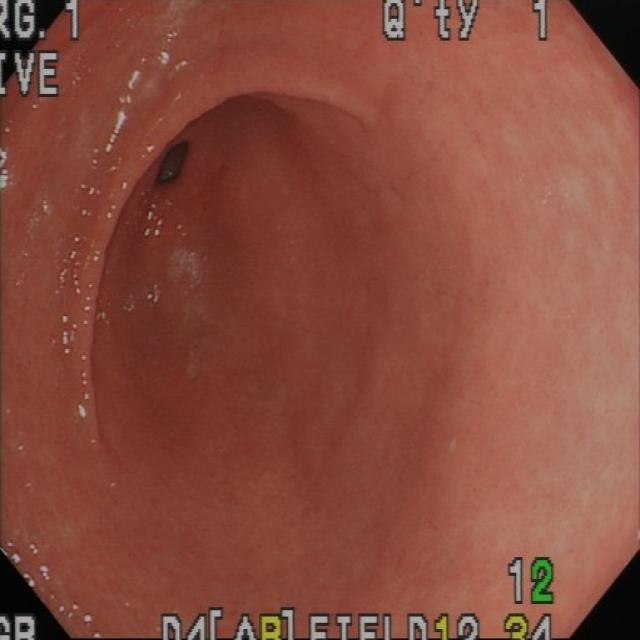J: (167, 248, 217, 331)
S: (160, 608, 483, 640), (383, 3, 558, 45), (3, 3, 83, 45), (3, 50, 63, 101), (507, 558, 556, 608), (506, 614, 556, 640), (2, 614, 39, 640)
U: (56, 180, 134, 424), (104, 50, 189, 158), (6, 538, 50, 589), (59, 602, 105, 640), (121, 283, 163, 316), (27, 193, 54, 242), (144, 202, 169, 241), (2, 145, 16, 198)
